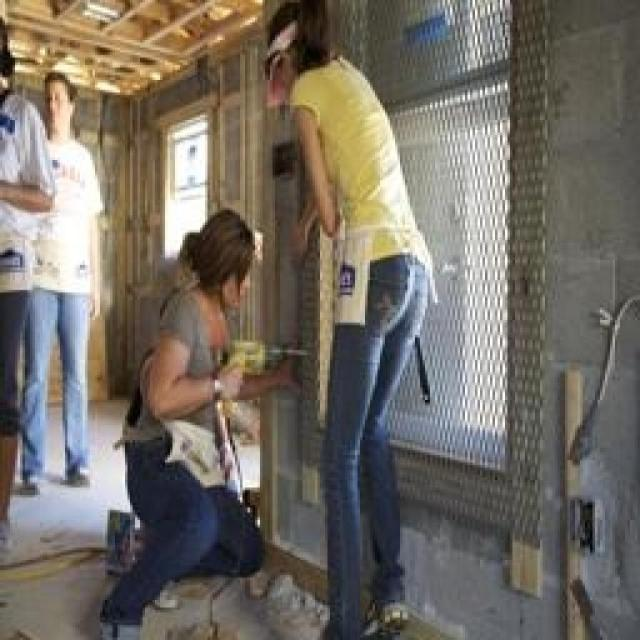Helmet: (257, 84, 455, 306), (142, 272, 238, 535), (25, 118, 109, 335), (172, 185, 278, 314), (234, 0, 344, 118), (0, 90, 50, 308), (30, 51, 85, 144), (0, 0, 20, 90)
